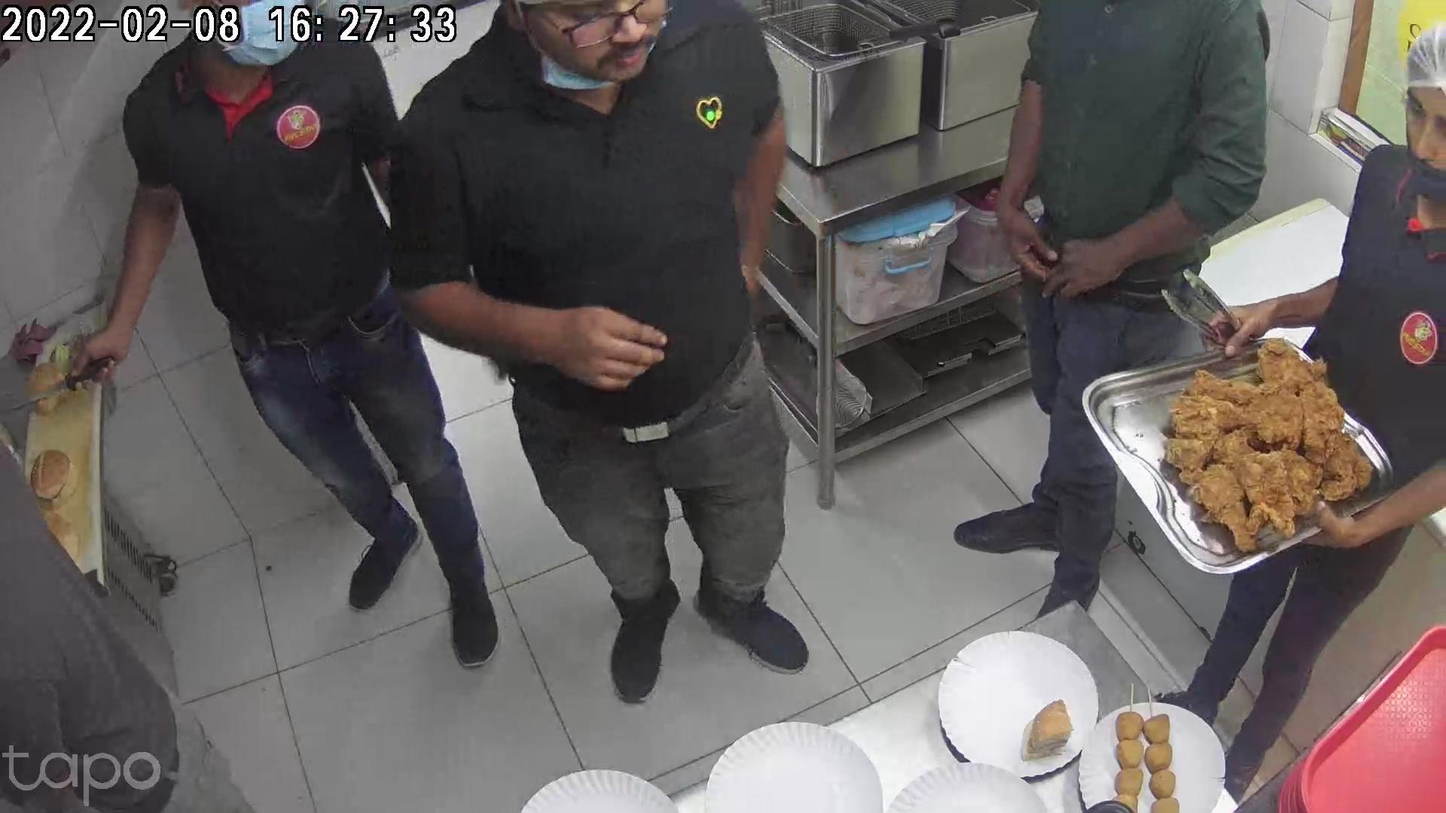no_gloves: (502, 315, 668, 385)
